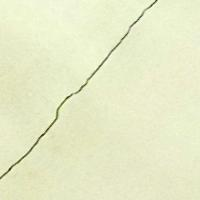crack: (3, 1, 157, 194)
